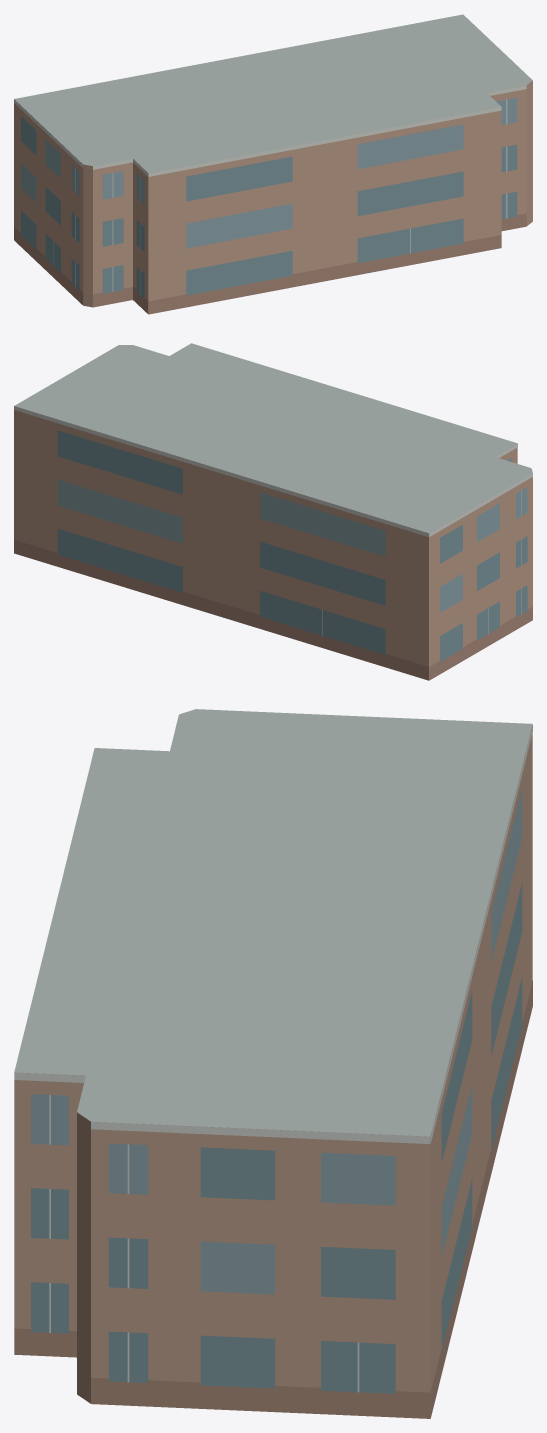
The model's file is survey-upis-32806414.glb.
The picture shows the model from 3 angles, top to bottom: view 1: azimuth 30°, elevation 25°; view 2: azimuth 150°, elevation 25°; view 3: azimuth 270°, elevation 25°; orthographic projection. The views are drawn at different scales.
Visible parts, largest first — view 1: survey-upis-32806414.tmp; view 2: survey-upis-32806414.tmp; view 3: survey-upis-32806414.tmp.
Part boxes in pixels (x1,y1,x2,y2): survey-upis-32806414.tmp: (14, 14, 532, 314); survey-upis-32806414.tmp: (14, 343, 532, 680); survey-upis-32806414.tmp: (14, 709, 532, 1418).
Bounding box in the file's own units: 29.74 × 9.15 × 15.25.
